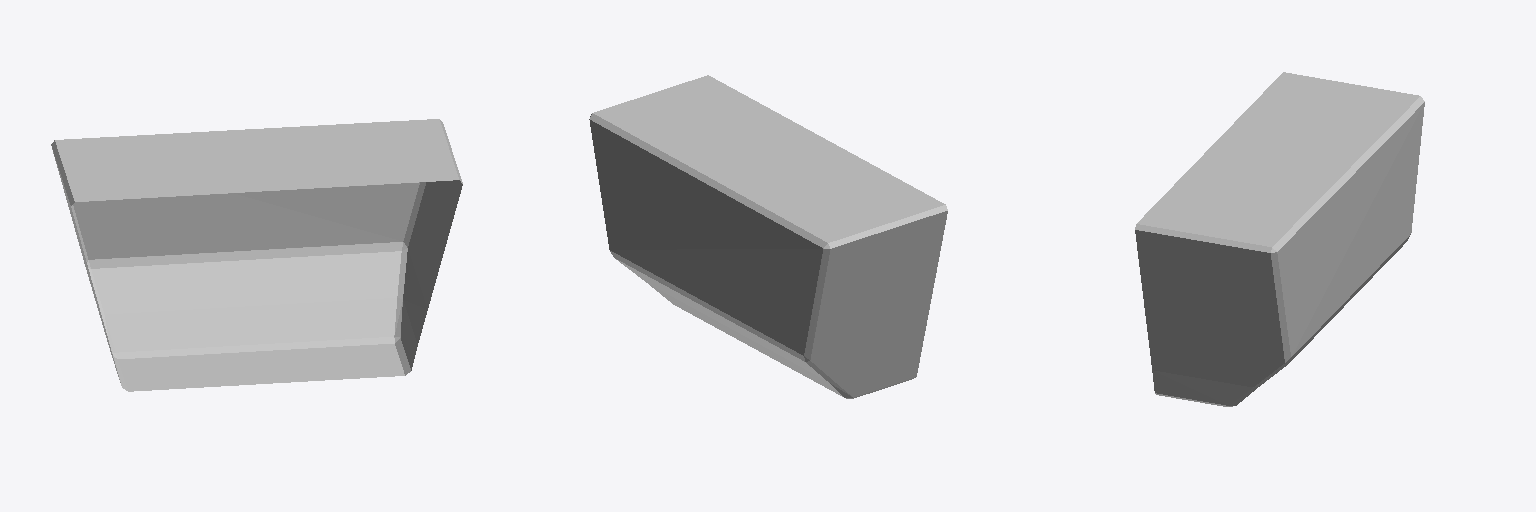
3 renders of one model, left to right at view 1: azimuth 30°, elevation 25°; view 2: azimuth 150°, elevation 25°; view 3: azimuth 270°, elevation 25°, orthographic.
Parts seen in each view (by area): view 1: Bistro_Research_Exterior_paris_building_11_5811; view 2: Bistro_Research_Exterior_paris_building_11_5811; view 3: Bistro_Research_Exterior_paris_building_11_5811.
Boxes of the visible parts, x1,y1,x2,y2 form: Bistro_Research_Exterior_paris_building_11_5811: [51, 119, 462, 391]; Bistro_Research_Exterior_paris_building_11_5811: [589, 75, 947, 398]; Bistro_Research_Exterior_paris_building_11_5811: [1135, 72, 1424, 406].
Bounding box in the file's own units: 1.34 × 0.6778 × 0.9251.